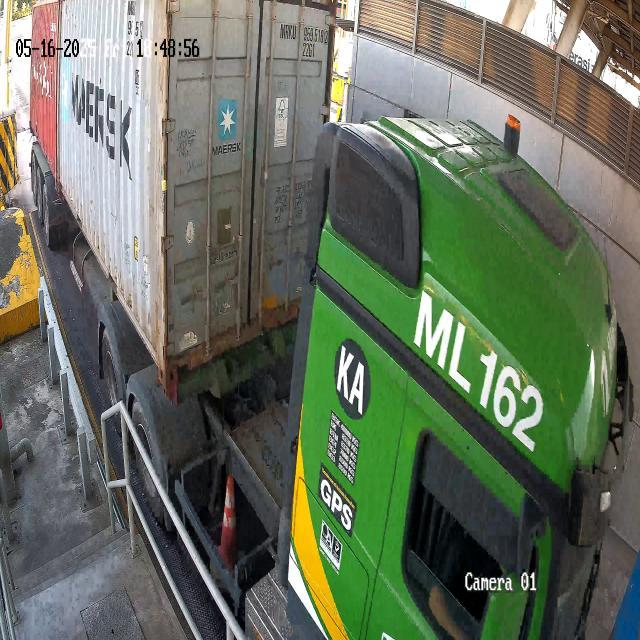ISO: (299, 41, 317, 66)
container_number: (276, 18, 335, 39)
